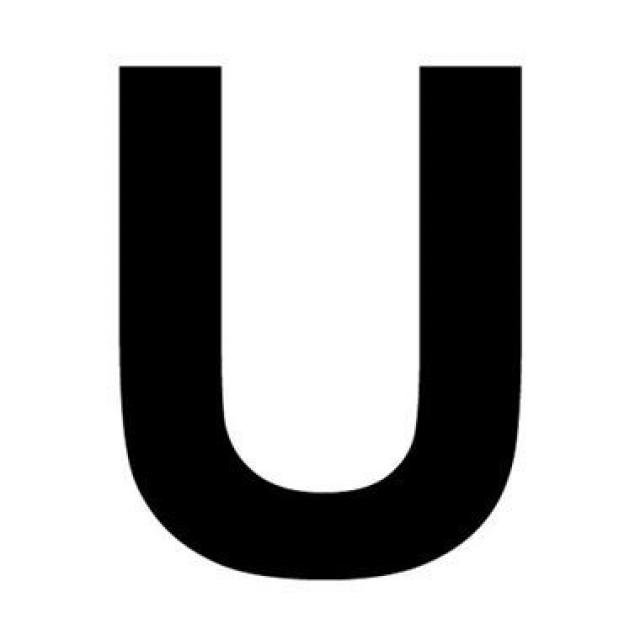U: (81, 38, 566, 598)
